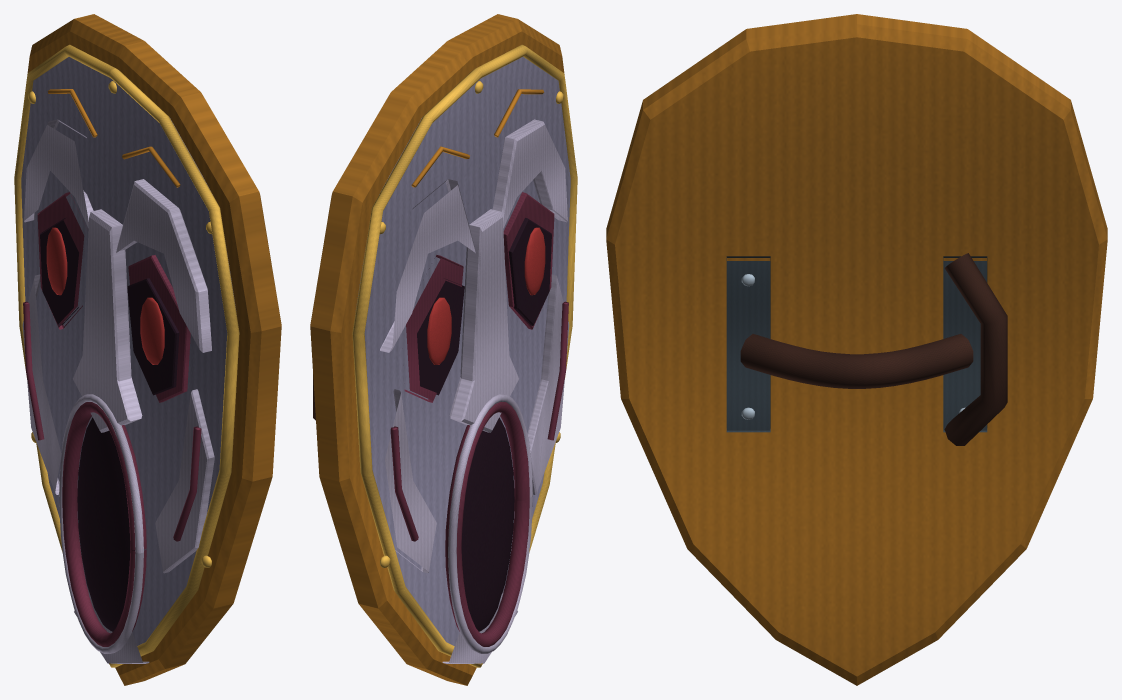
The model's file is shield_of_ikana.glb.
3 views of the same model, side by side, from view 1: azimuth 30°, elevation 25°; view 2: azimuth 150°, elevation 25°; view 3: azimuth 270°, elevation 25° (orthographic). The views are drawn at different scales.
Parts seen in each view (by area): view 1: Lavender polished mirror field, Bronze mirror shield rim, Bright inner mirror lip, Screaming face raised brow (×2), Face raised nose bridge, Screaming mouth dark recess, Long raised mirror cheek (×2), Screaming mouth rose contour, Dark screaming eye cavity (×2), Inset mirror eye socket (×2), Screaming mouth pale raised lip, Red narrow mirror eye (×2) (+3 smaller); view 2: Lavender polished mirror field, Bronze mirror shield rim, Bright inner mirror lip, Screaming face raised brow (×2), Face raised nose bridge, Screaming mouth dark recess, Long raised mirror cheek (×2), Screaming mouth rose contour, Dark screaming eye cavity (×2), Inset mirror eye socket (×2), Screaming mouth pale raised lip, Red narrow mirror eye (×2) (+3 smaller); view 3: Bronze mirror shield rim, Leather strap steel anchor (×2), Arched rear hand strap, Rear forearm brace.
Boxes of the visible parts, x1=… form: Lavender polished mirror field: x1=21, y1=57, x2=236, y2=645; Bronze mirror shield rim: x1=27, y1=14, x2=281, y2=685; Bright inner mirror lip: x1=14, y1=44, x2=239, y2=667; Screaming face raised brow (×2): x1=24, y1=119, x2=211, y2=352; Face raised nose bridge: x1=73, y1=209, x2=142, y2=432; Screaming mouth dark recess: x1=77, y1=417, x2=134, y2=631; Long raised mirror cheek (×2): x1=22, y1=274, x2=214, y2=573; Screaming mouth rose contour: x1=62, y1=402, x2=146, y2=646; Dark screaming eye cavity (×2): x1=40, y1=218, x2=179, y2=395; Inset mirror eye socket (×2): x1=37, y1=192, x2=190, y2=402; Screaming mouth pale raised lip: x1=59, y1=394, x2=143, y2=653; Red narrow mirror eye (×2): x1=46, y1=227, x2=164, y2=364; Lavender polished mirror field: x1=355, y1=57, x2=570, y2=645; Bronze mirror shield rim: x1=310, y1=14, x2=564, y2=685; Bright inner mirror lip: x1=352, y1=44, x2=577, y2=667; Screaming face raised brow (×2): x1=380, y1=119, x2=567, y2=352; Face raised nose bridge: x1=449, y1=209, x2=518, y2=432; Screaming mouth dark recess: x1=461, y1=417, x2=514, y2=631; Long raised mirror cheek (×2): x1=385, y1=274, x2=569, y2=573; Screaming mouth rose contour: x1=445, y1=402, x2=529, y2=646; Dark screaming eye cavity (×2): x1=417, y1=217, x2=551, y2=395; Inset mirror eye socket (×2): x1=404, y1=192, x2=554, y2=402; Screaming mouth pale raised lip: x1=448, y1=394, x2=532, y2=653; Red narrow mirror eye (×2): x1=427, y1=227, x2=545, y2=364; Bronze mirror shield rim: x1=606, y1=14, x2=1107, y2=685; Leather strap steel anchor (×2): x1=726, y1=256, x2=987, y2=432; Arched rear hand strap: x1=740, y1=334, x2=973, y2=388; Rear forearm brace: x1=944, y1=253, x2=1007, y2=445.
Size of the model in its own units: 19.46 by 83.99 by 57.69.
10 materials, 10 textured.
